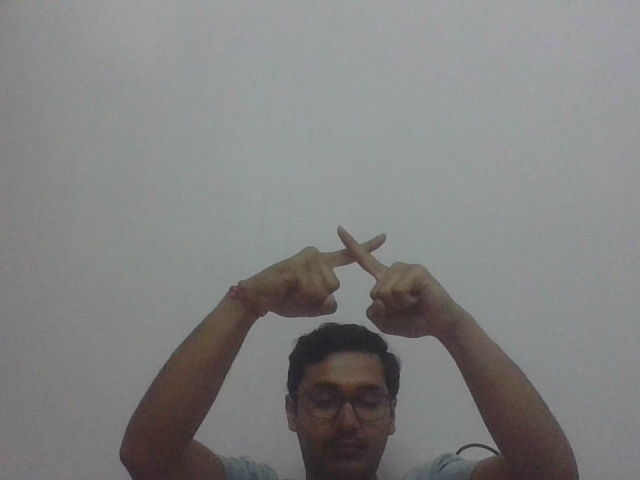X: (266, 224, 451, 342)
